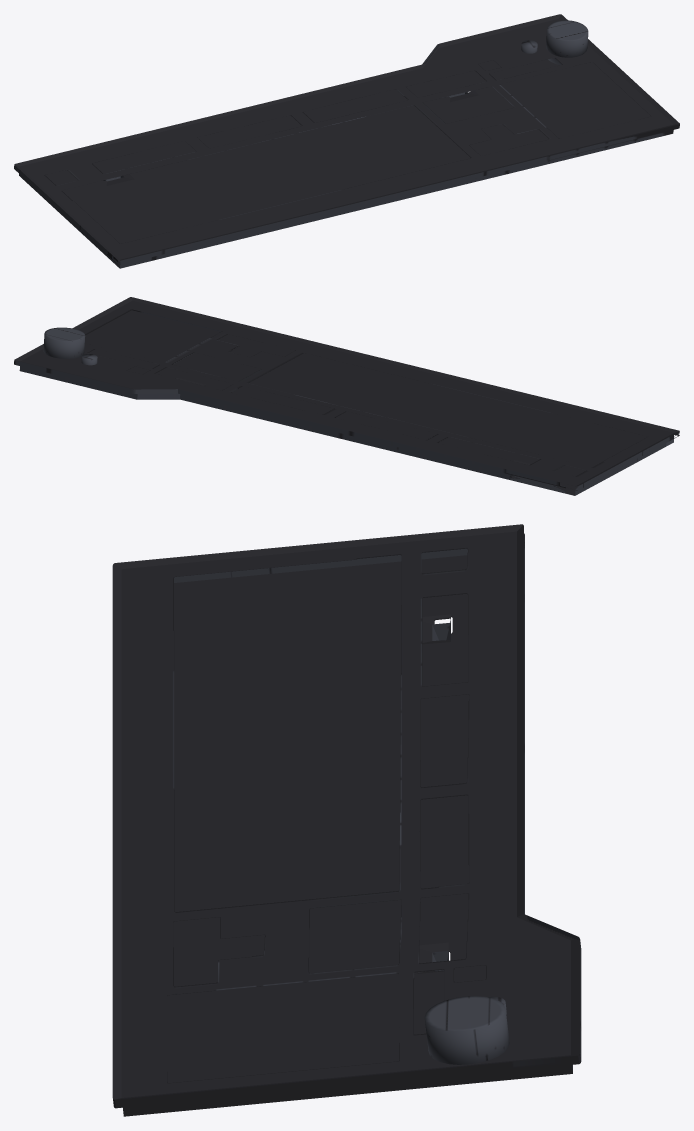
The model's file is Computer Keyboard.fbx.
3 views of the same model, one above another, from view 1: azimuth 30°, elevation 25°; view 2: azimuth 150°, elevation 25°; view 3: azimuth 270°, elevation 25° (orthographic). The views are drawn at different scales.
Visible parts, largest first — view 1: Keyboard base.002; view 2: Keyboard base.002; view 3: Keyboard base.002.
Part boxes in pixels (bbox=[...]): Keyboard base.002: bbox=[14, 14, 679, 268]; Keyboard base.002: bbox=[14, 297, 679, 495]; Keyboard base.002: bbox=[112, 524, 581, 1116].
Size of the model in its own units: 486 by 37.69 by 179.
